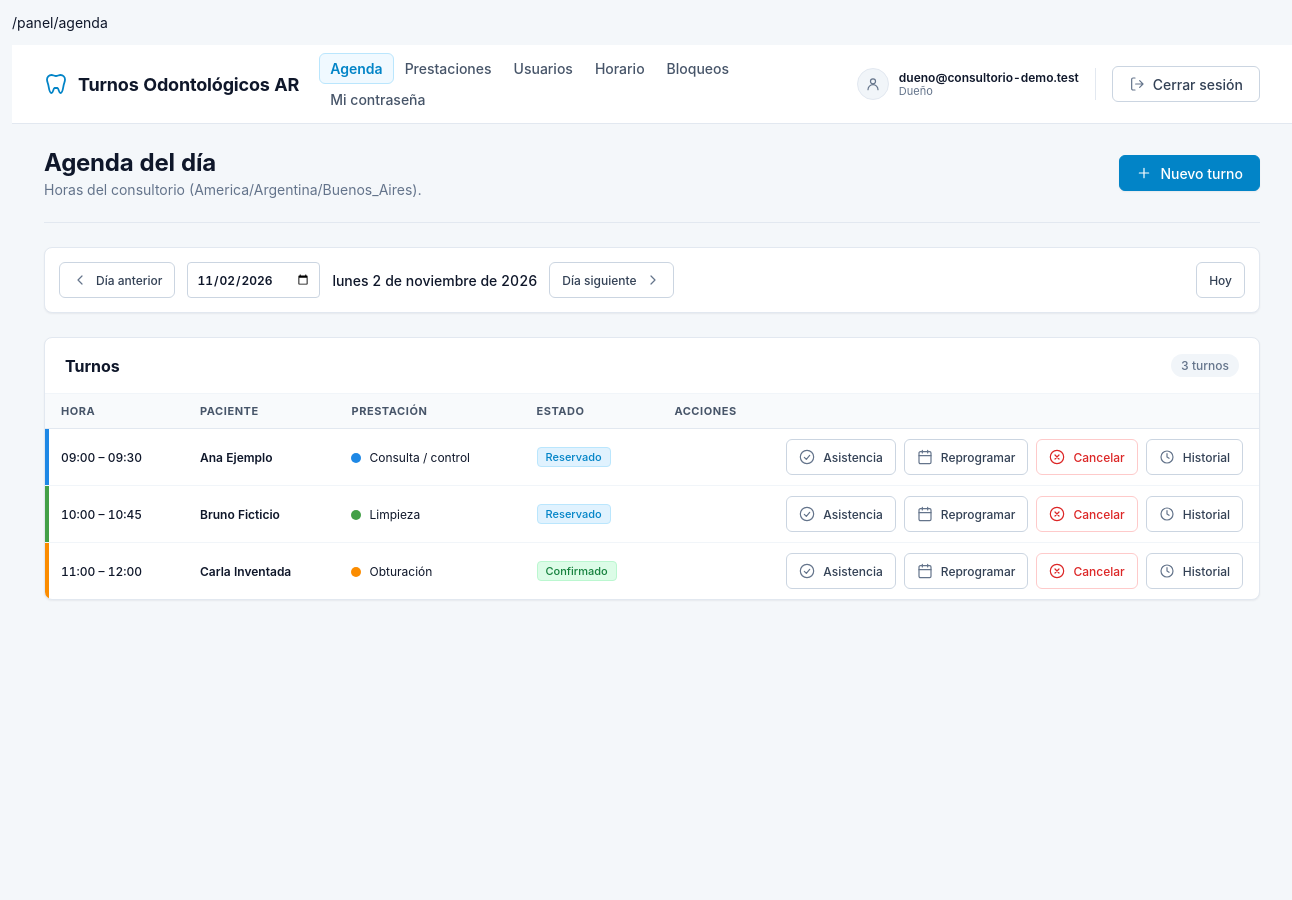
PanelCancelar: los rechazos › CAN-5b: el dueño ve la acción y recibe el 403
Expected: the text "lunes 2 de noviembre de 2026" is shown, [332,272,537,288]
Click the button with aria-label "Cancelar el turno de Ana Ejemplo, 09:00".
click(1087, 457)  # box [1036,439,1138,475]
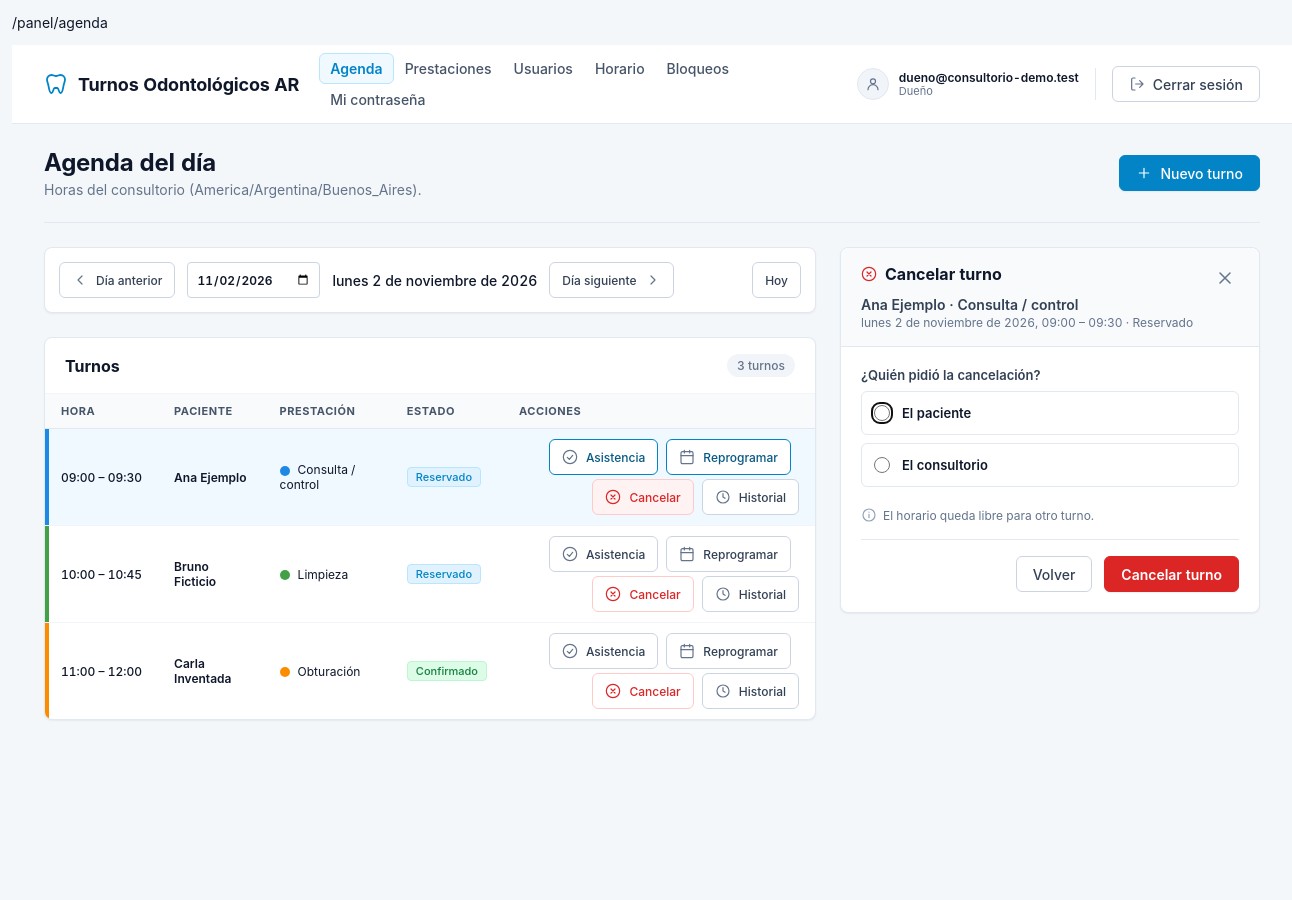
Click the radio button labelled "El paciente".
click(882, 413)  # box [874,405,890,421]
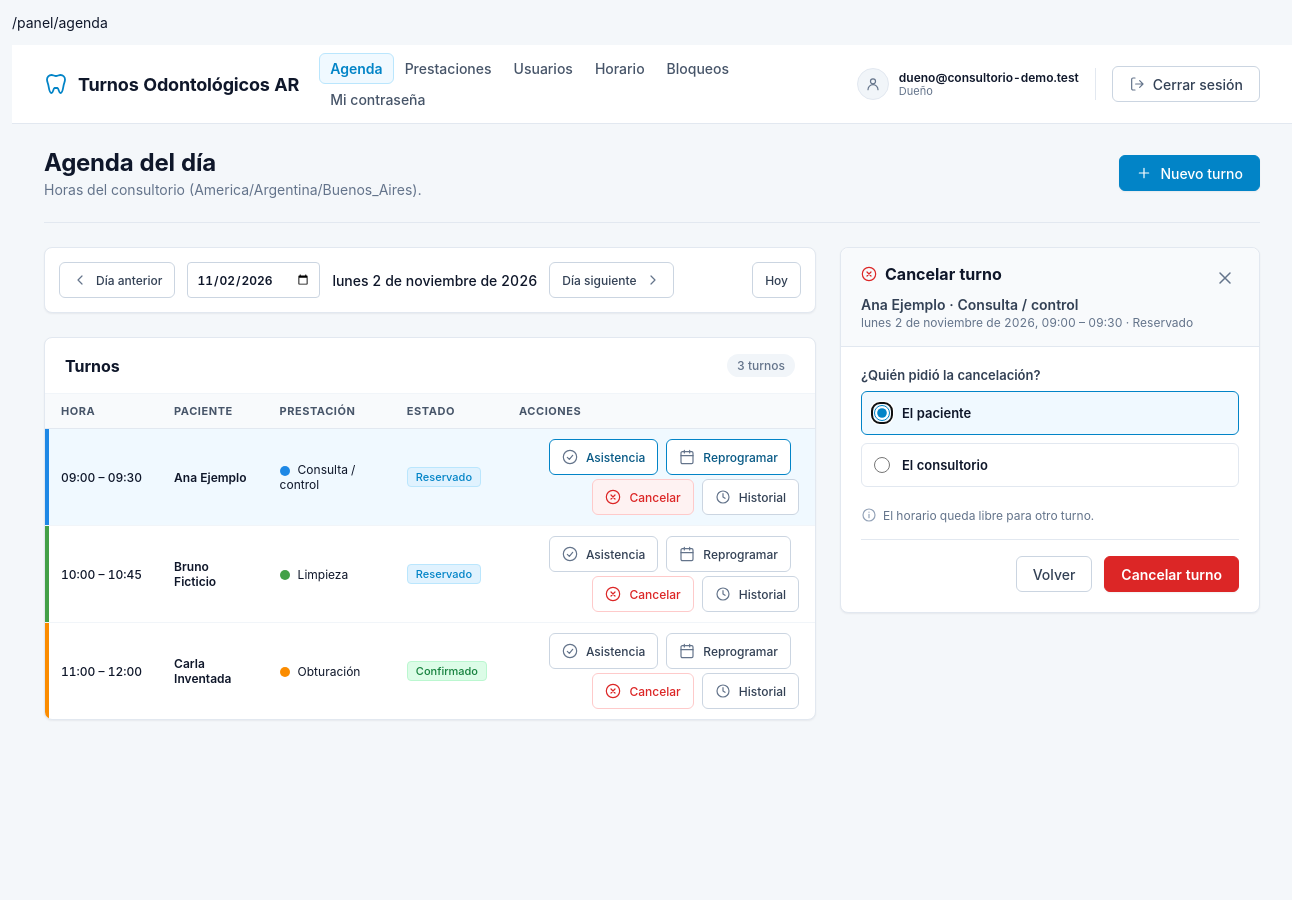
Click the button "Cancelar turno".
click(1172, 574)  # box [1104,556,1239,592]
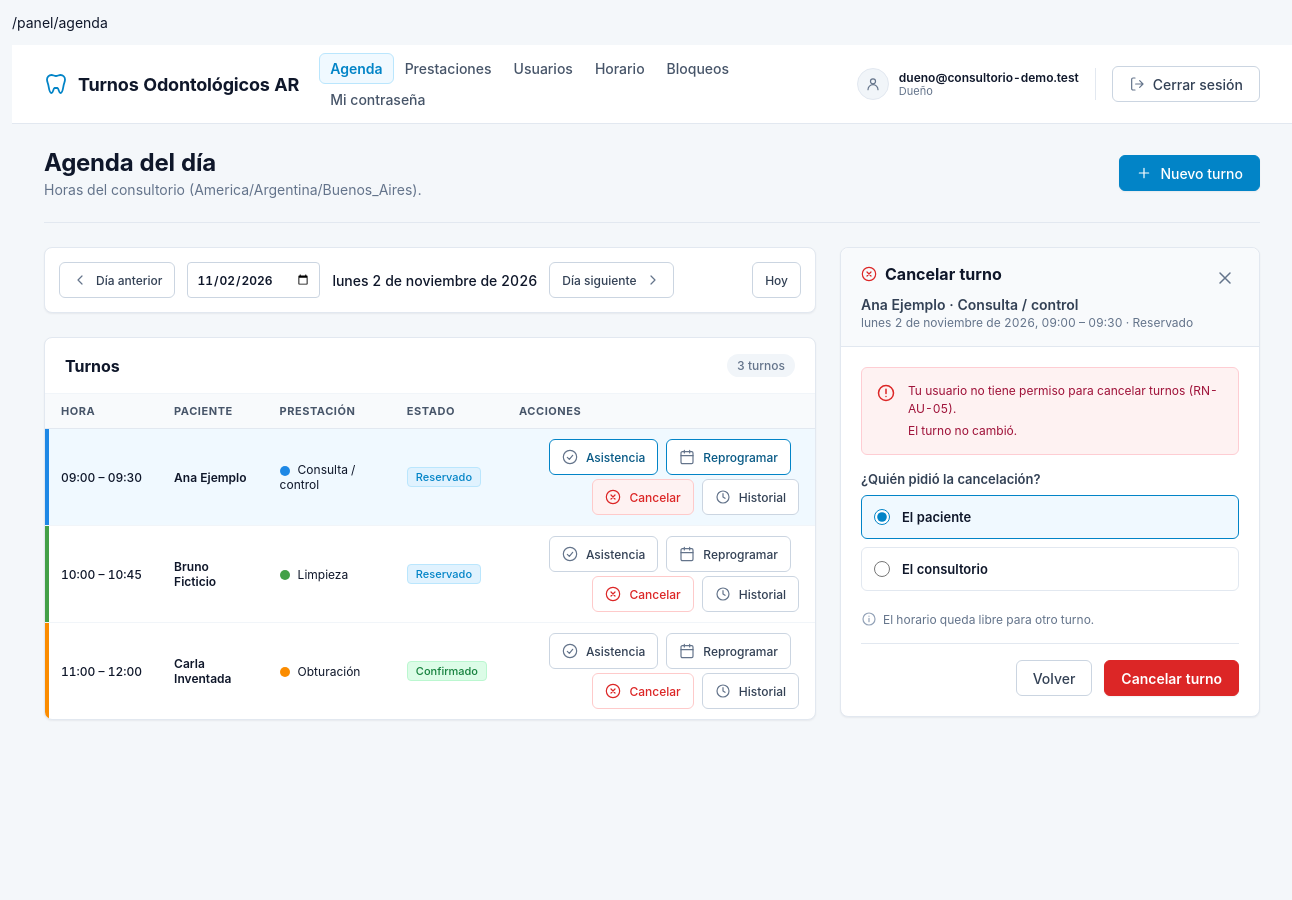
Expected: the radio button labelled "El paciente" is checked, [874,509,890,525]
Expected: the message shows "Tu usuario no tiene permiso para cancelar turnos (RN-AU-05).", [908,383,1218,416]
Expected: the message shows "El turno no cambió.", [908,423,1017,438]
